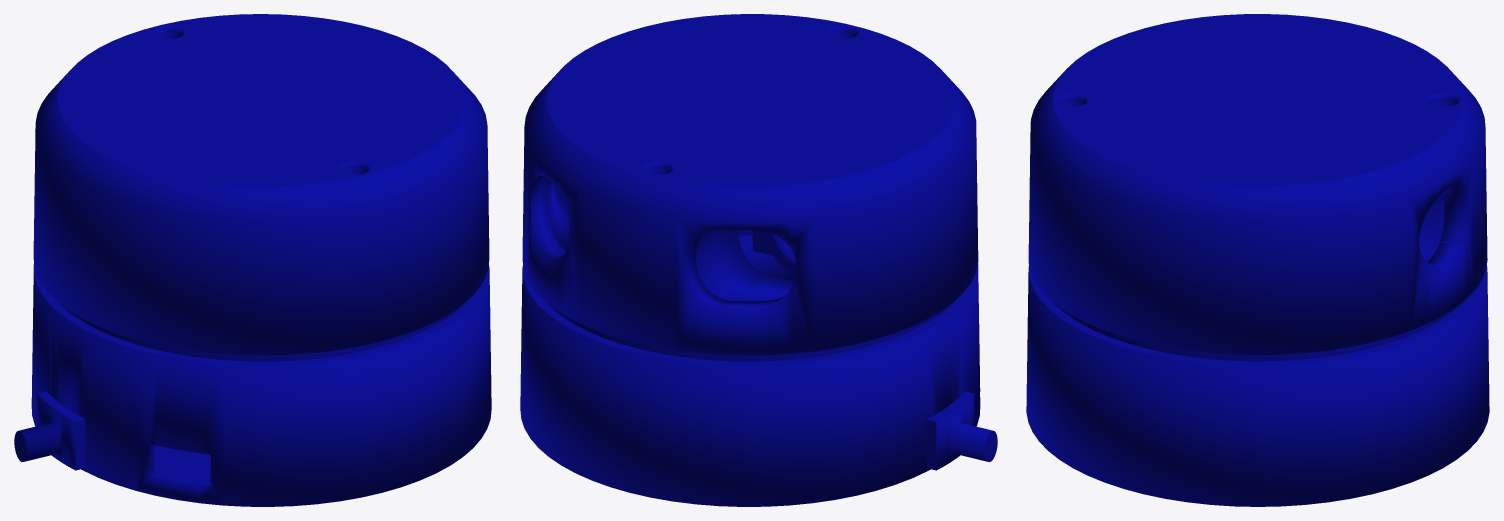
File: ydlidar.dae
3 renders of one model, left to right at view 1: azimuth 30°, elevation 25°; view 2: azimuth 150°, elevation 25°; view 3: azimuth 270°, elevation 25°, orthographic.
Parts seen in each view (by area): view 1: ydlidar_g4; view 2: ydlidar_g4; view 3: ydlidar_g4.
Boxes of the visible parts, x1,y1,x2,y2 form: ydlidar_g4: (14,14,491,506); ydlidar_g4: (520,14,997,506); ydlidar_g4: (1026,14,1489,506).
Bounding box in the file's own units: 0.067 × 0.061 × 0.045.
